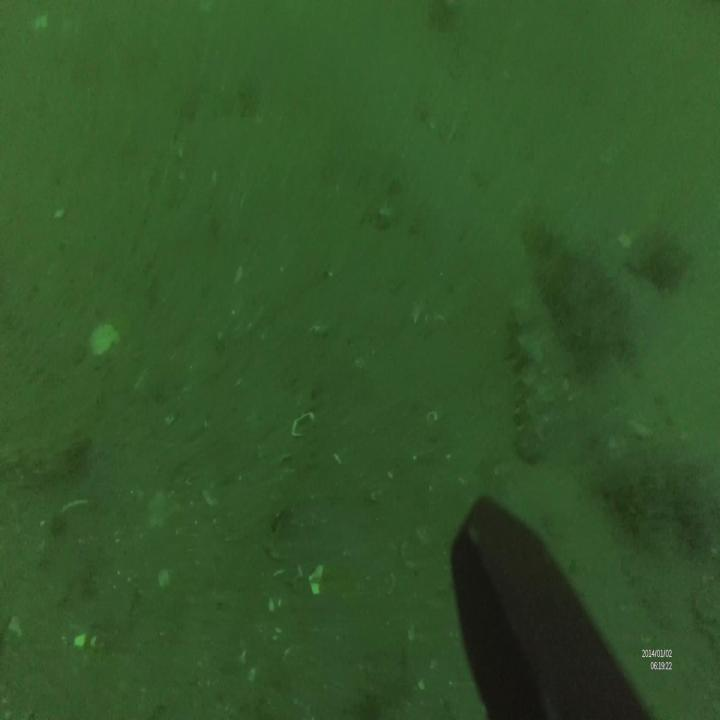holothurian: (505, 285, 555, 462)
